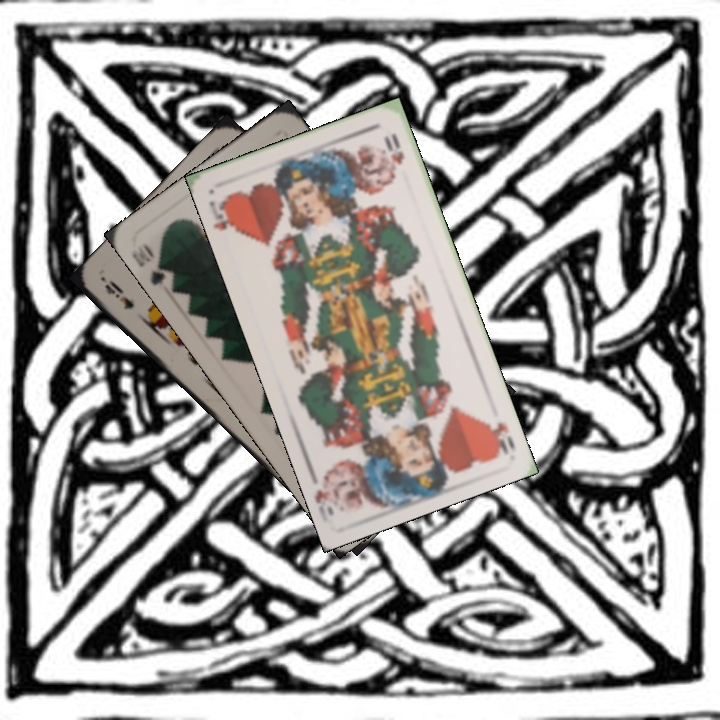E9: (100, 276, 137, 313)
G10: (127, 240, 174, 288)
HO: (204, 193, 242, 236), (482, 418, 517, 459)
